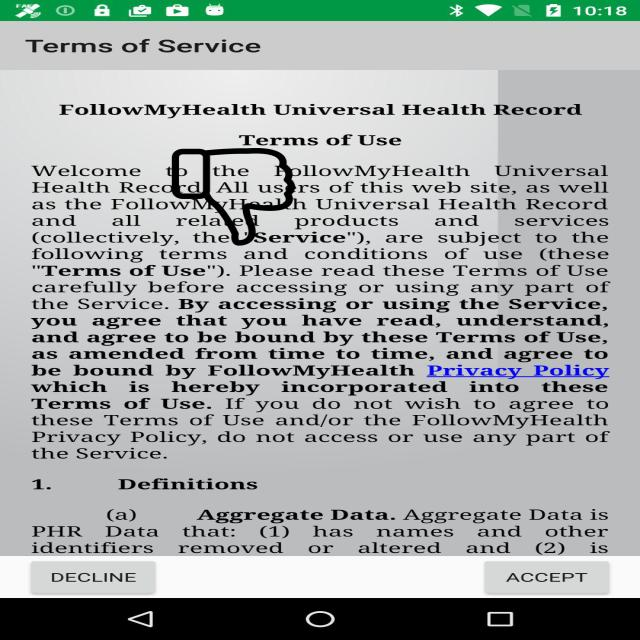obstruction: (170, 148, 297, 246)
